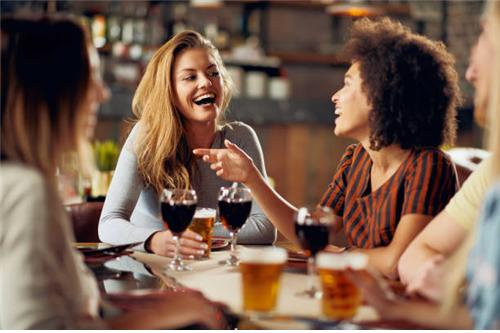alcohol: (293, 206, 334, 300), (316, 251, 368, 325), (159, 188, 199, 275), (239, 245, 286, 313), (217, 186, 252, 266)
